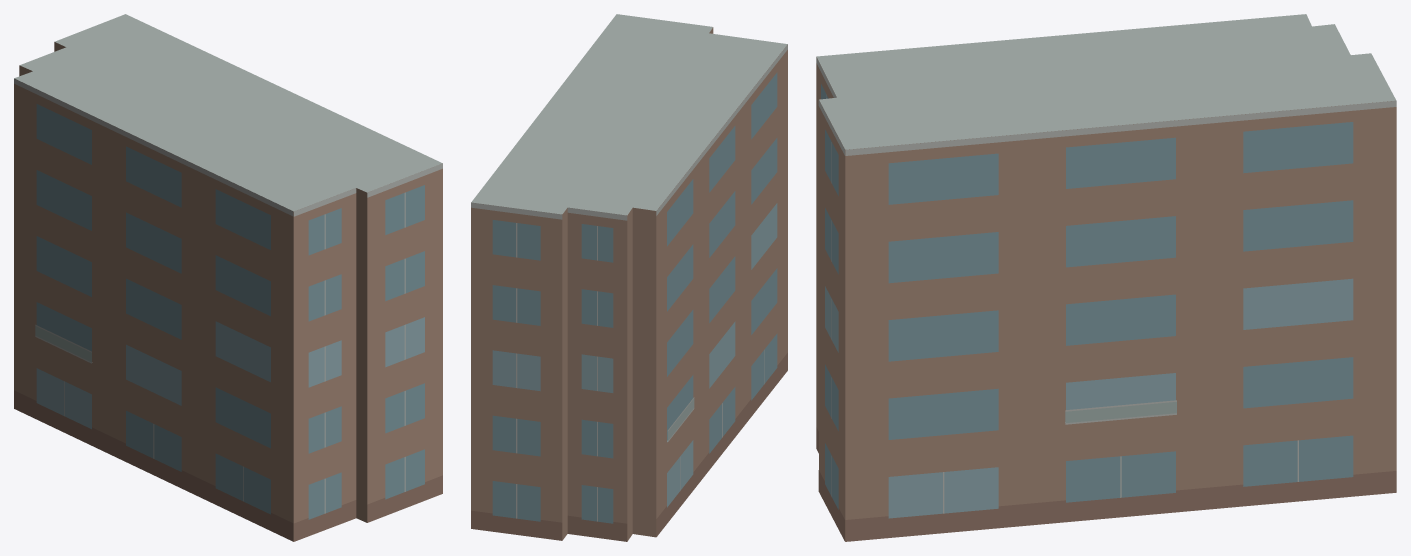
File: survey-upis-32915657.glb
3 renders of one model, left to right at view 1: azimuth 30°, elevation 25°; view 2: azimuth 150°, elevation 25°; view 3: azimuth 270°, elevation 25°, orthographic. The views are drawn at different scales.
Visible parts, largest first — view 1: survey-upis-32915657.tmp; view 2: survey-upis-32915657.tmp; view 3: survey-upis-32915657.tmp.
Boxes of the visible parts, x1=… form: survey-upis-32915657.tmp: x1=14, y1=14, x2=442, y2=541; survey-upis-32915657.tmp: x1=471, y1=14, x2=787, y2=541; survey-upis-32915657.tmp: x1=816, y1=14, x2=1396, y2=541.
Size of the model in its own units: 11.34 by 15.25 by 20.46.
